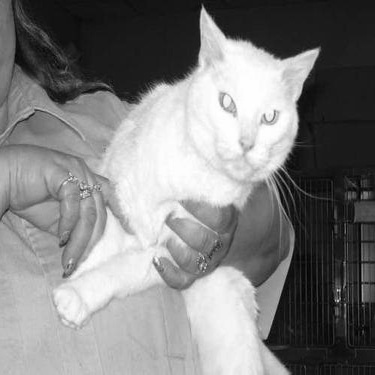cat: (42, 1, 331, 371)
